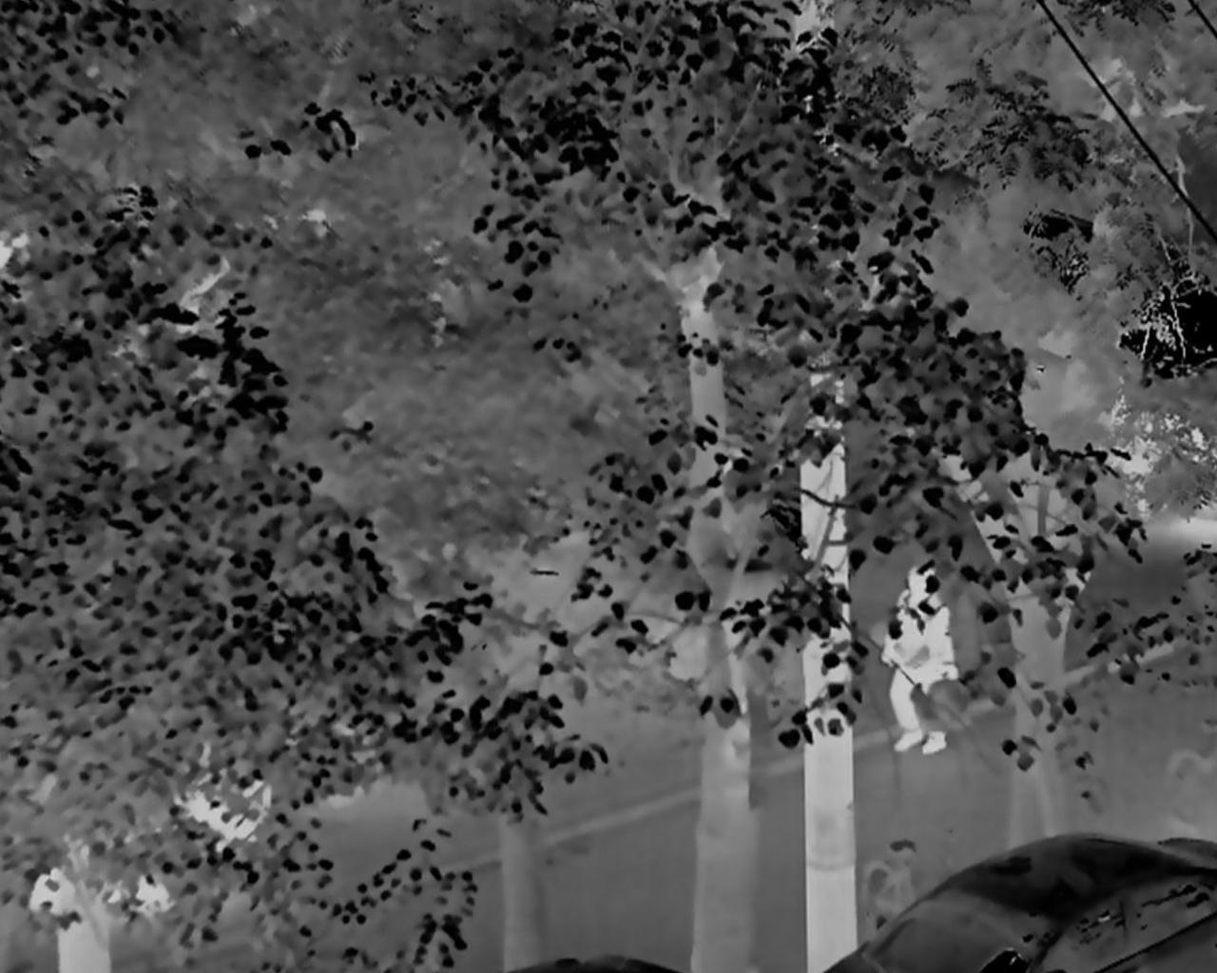person: (882, 564, 961, 758)
